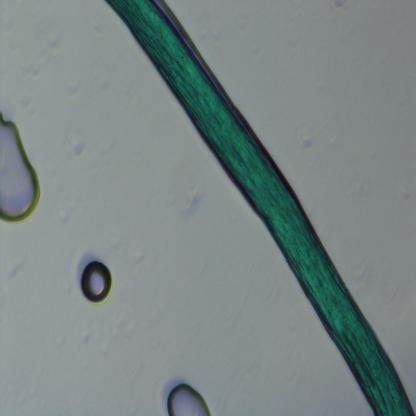Air bubble: (0, 108, 42, 222), (79, 260, 113, 306), (166, 380, 210, 415)
Microfibre: (105, 0, 416, 414)
